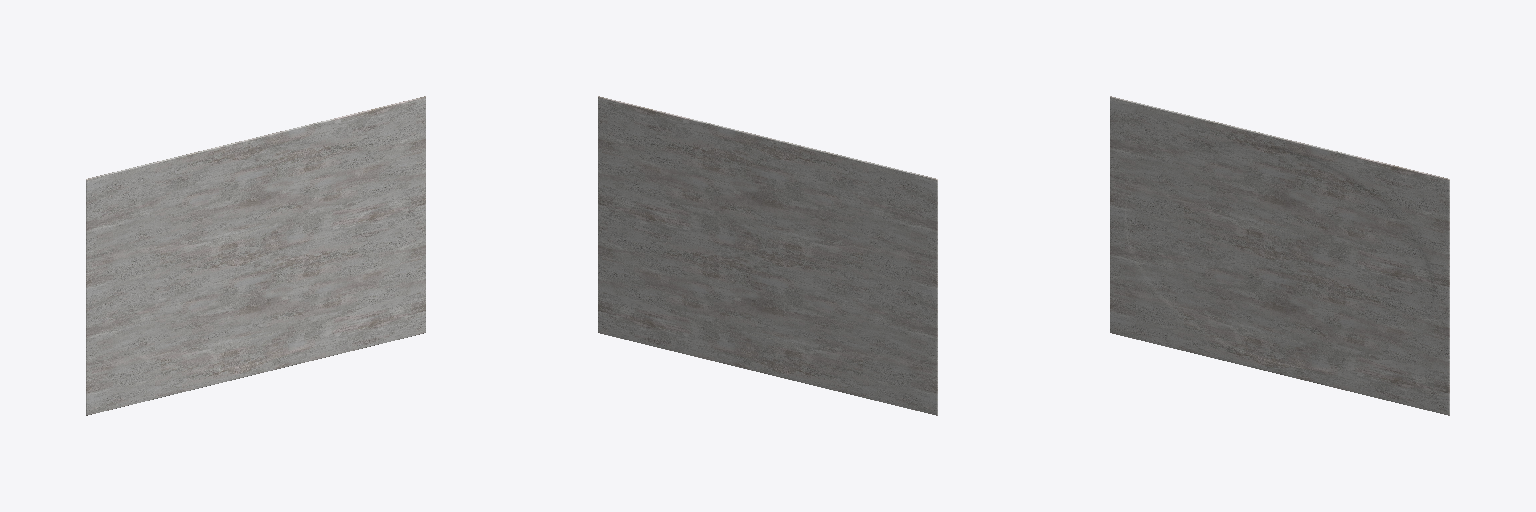
3 renders of one model, left to right at view 1: azimuth 30°, elevation 25°; view 2: azimuth 150°, elevation 25°; view 3: azimuth 330°, elevation 25°, orthographic.
Size of the model in its own units: 30.6 by 20.32 by 0.2.
1 materials, 1 textured.